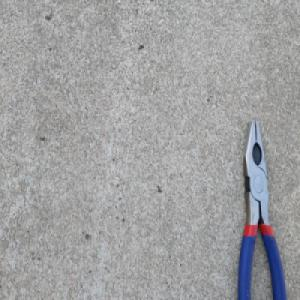Pliers: (235, 117, 286, 300)
